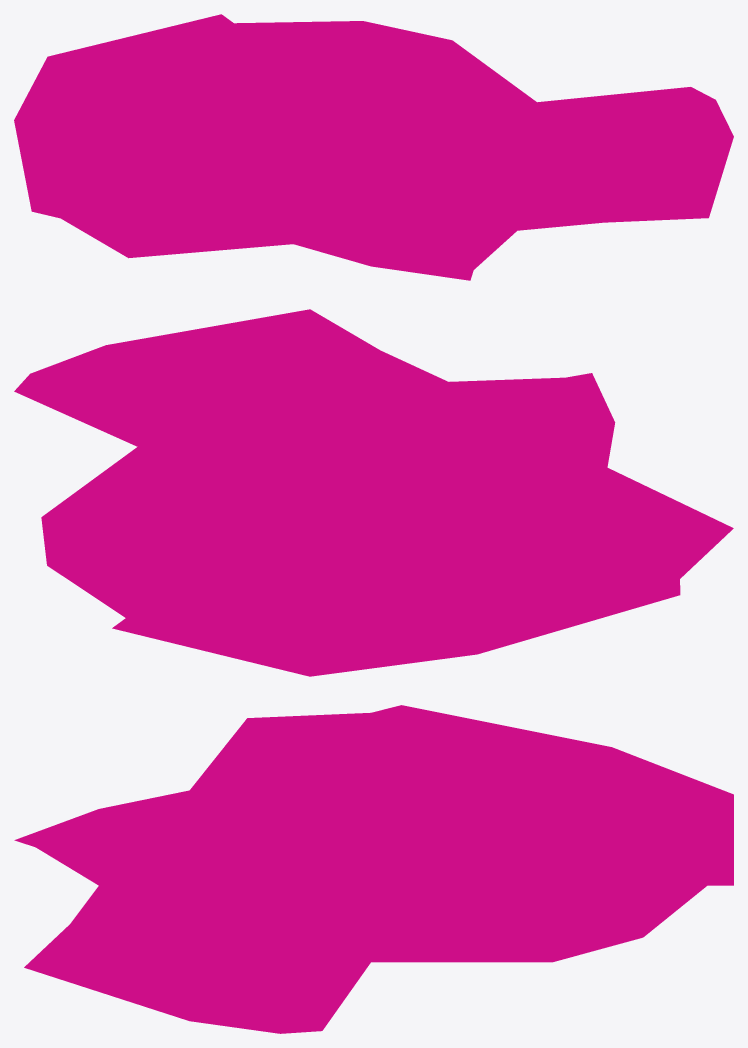
File: Parchment_P_05.fbx
3 renders of one model, top to bottom at view 1: azimuth 30°, elevation 25°; view 2: azimuth 150°, elevation 25°; view 3: azimuth 270°, elevation 25°, orthographic. The views are drawn at different scales.
Parts seen in each view (by area): view 1: Parchment_P_05; view 2: Parchment_P_05; view 3: Parchment_P_05.
Boxes of the visible parts, x1,y1,x2,y2 form: Parchment_P_05: [14, 14, 733, 280]; Parchment_P_05: [14, 309, 733, 676]; Parchment_P_05: [14, 705, 733, 1033].
Bounding box in the file's own units: 26.5 × 5.45e-15 × 24.52.
